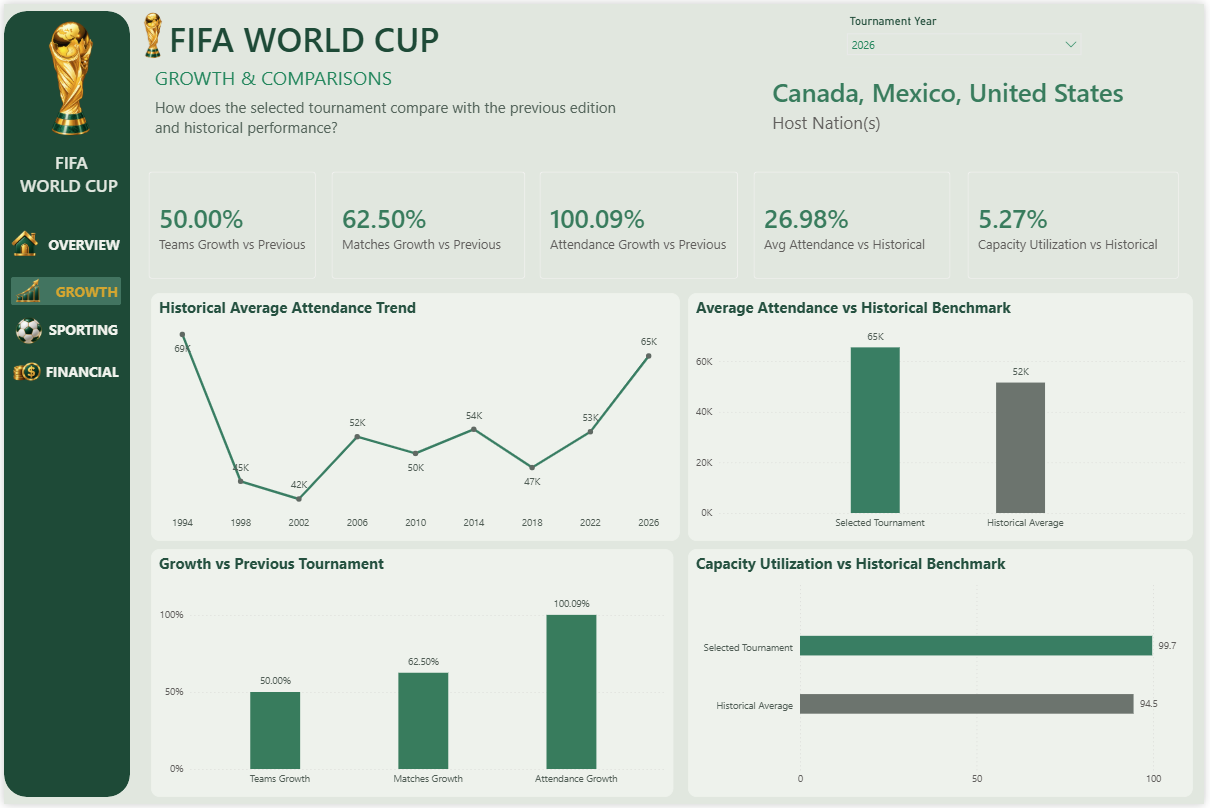

The page's visual inventory and layout, read from the dashboard file:
{"tool":"powerbi","page":{"name":"Growth & Comparisons.","canvas":[1500,1000],"ordinal":1},"visuals":[{"type":"shape","box":[0,8.8,157.5,982.5],"z":0},{"type":"textbox","box":[201.2,8.8,412.5,71.2],"z":1000},{"type":"textbox","box":[183.8,70,412.5,51.2],"z":2000},{"type":"textbox","box":[183.8,111.2,596.2,67.5],"z":3000},{"type":"slicer","fields":{"Values":["Dim_Tournament.Year"]},"box":[1043.8,8.8,312.5,71.2],"z":4000},{"type":"cardVisual","fields":{"Data":["_Measures.Teams Growth vs Previous %"]},"box":[163.8,192.5,243.8,168.8],"z":5000},{"type":"cardVisual","fields":{"Data":["_Measures.Matches Growth vs Previous %"]},"box":[392.5,192.5,276.2,168.8],"z":6000},{"type":"cardVisual","fields":{"Data":["_Measures.Avg Attendance vs Historical %"]},"box":[920,192.5,280,168.8],"z":7000},{"type":"cardVisual","fields":{"Data":["_Measures.Attendance Growth vs Previous %"]},"box":[652.5,192.5,282.5,168.8],"z":8000},{"type":"cardVisual","fields":{"Data":["_Measures.Capacity Utilization vs Historical"]},"box":[1187.5,192.5,298.8,168.8],"z":9000},{"type":"clusteredColumnChart","title":"Growth vs Previous Tournament","fields":{"Y":["_Measures.Growth Metric Value"],"Category":["Growth_Metric_Axis.Growth Metric"]},"box":[183.8,681.2,652.5,310],"z":10000},{"type":"clusteredColumnChart","title":"Average Attendance vs Historical Benchmark","fields":{"Category":["Attendance_Benchmark_Axis.Attendance Benchmark"],"Y":["_Measures.Attendance Benchmark Value"]},"box":[855,361.2,631.2,310],"z":11000},{"type":"clusteredBarChart","title":"Capacity Utilization vs Historical Benchmark","fields":{"Category":["Capacity_Benchmark_Axis.Capacity Benchmark"],"Y":["_Measures.Capacity Benchmark Value"]},"box":[855,681.2,631.2,310],"z":12000},{"type":"lineChart","title":"Historical Average Attendance Trend","fields":{"Category":["Dim_Tournament.Year"],"Y":["_Measures.Average Attendance per Match"]},"box":[183.8,361.2,661.2,310],"z":13000},{"type":"cardVisual","fields":{"Data":["_Measures.Selected Host"]},"box":[931.2,70,568.8,108.8],"z":14000},{"type":"image","box":[8.8,16.2,148.8,153.8],"z":14001},{"type":"actionButton","title":"OVERVIEW","box":[15,282.5,133.8,35],"z":14002},{"type":"textbox","box":[15,178.8,137.5,76.2],"z":14003},{"type":"actionButton","title":"GROWTH","box":[8.8,341.2,137.5,35],"z":14004},{"type":"actionButton","title":"SPORTING","box":[48.8,391.2,97.5,27.5],"z":14005},{"type":"actionButton","title":"FINANCIAL","box":[47.5,441.2,100,35],"z":14006},{"type":"image","box":[13.8,391.2,35,35],"z":14007},{"type":"image","box":[11.2,442.5,35,35],"z":14008},{"type":"image","box":[11.2,341.2,35,35],"z":14009},{"type":"image","box":[8.8,282.5,35,35],"z":14010},{"type":"image","box":[157.5,8.8,57.5,61.2],"z":14011}]}

Visuals, with their boxes in screenshot pixels (x1, y1, x2, y2), scaled from the page's 1500x1000 canvas onto the 1210x808 screenshot:
shape: select_region(0, 7, 127, 801)
textbox: select_region(162, 7, 495, 65)
textbox: select_region(148, 57, 481, 98)
textbox: select_region(148, 90, 629, 144)
slicer - Dim_Tournament.Year: select_region(842, 7, 1094, 65)
cardVisual - _Measures.Teams Growth vs Previous %: select_region(132, 156, 329, 292)
cardVisual - _Measures.Matches Growth vs Previous %: select_region(317, 156, 539, 292)
cardVisual - _Measures.Avg Attendance vs Historical %: select_region(742, 156, 968, 292)
cardVisual - _Measures.Attendance Growth vs Previous %: select_region(526, 156, 754, 292)
cardVisual - _Measures.Capacity Utilization vs Historical: select_region(958, 156, 1199, 292)
"Growth vs Previous Tournament" clusteredColumnChart: select_region(148, 550, 675, 801)
"Average Attendance vs Historical Benchmark" clusteredColumnChart: select_region(690, 292, 1199, 542)
"Capacity Utilization vs Historical Benchmark" clusteredBarChart: select_region(690, 550, 1199, 801)
"Historical Average Attendance Trend" lineChart: select_region(148, 292, 682, 542)
cardVisual - _Measures.Selected Host: select_region(751, 57, 1209, 144)
image: select_region(7, 13, 127, 137)
"OVERVIEW" actionButton: select_region(12, 228, 120, 257)
textbox: select_region(12, 144, 123, 206)
"GROWTH" actionButton: select_region(7, 276, 118, 304)
"SPORTING" actionButton: select_region(39, 316, 118, 338)
"FINANCIAL" actionButton: select_region(38, 356, 119, 385)
image: select_region(11, 316, 39, 344)
image: select_region(9, 358, 37, 386)
image: select_region(9, 276, 37, 304)
image: select_region(7, 228, 35, 257)
image: select_region(127, 7, 173, 57)
